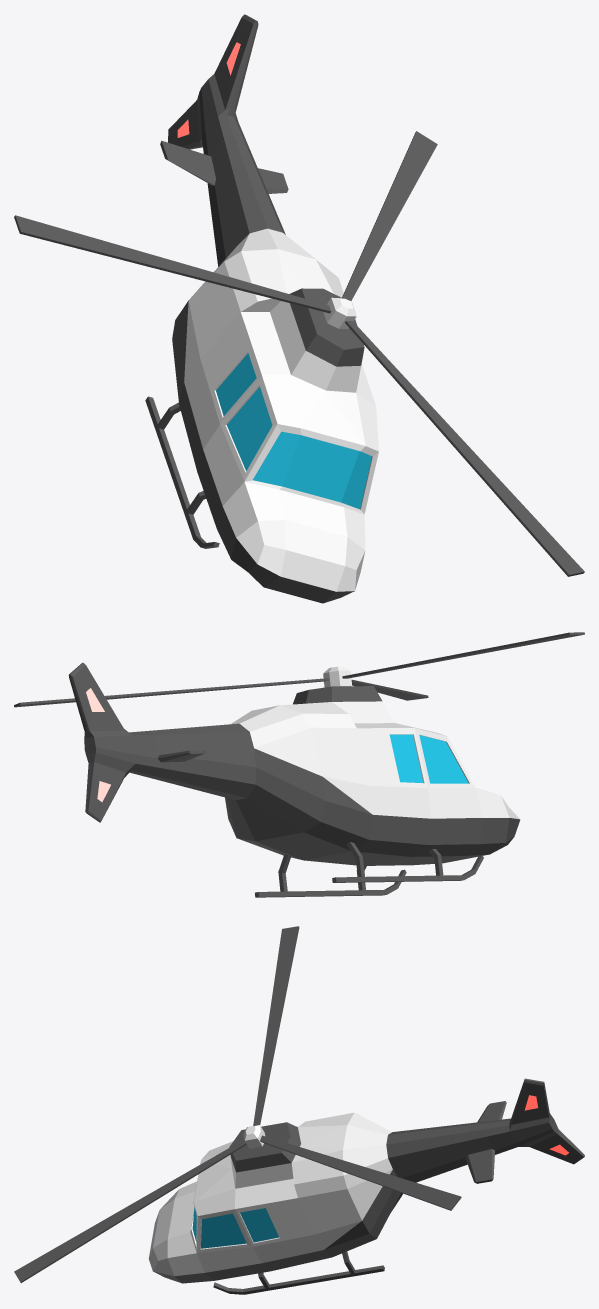
Rendered from car_05.glb.
3 views of the same model, one above another, from view 1: azimuth 30°, elevation 25°; view 2: azimuth 150°, elevation 25°; view 3: azimuth 270°, elevation 25° (orthographic). The views are drawn at different scales.
Visible parts, largest first — view 1: car_05, helicopter.003; view 2: car_05, helicopter.003; view 3: car_05, helicopter.003.
Part boxes in pixels (box(x1,y1,x2,y2)): car_05: box(145, 14, 378, 603); helicopter.003: box(14, 131, 584, 576); car_05: box(68, 662, 520, 897); helicopter.003: box(14, 632, 584, 707); car_05: box(148, 1078, 584, 1294); helicopter.003: box(14, 926, 461, 1282).
Size of the model in its own units: 2.1 by 1.46 by 2.69.
